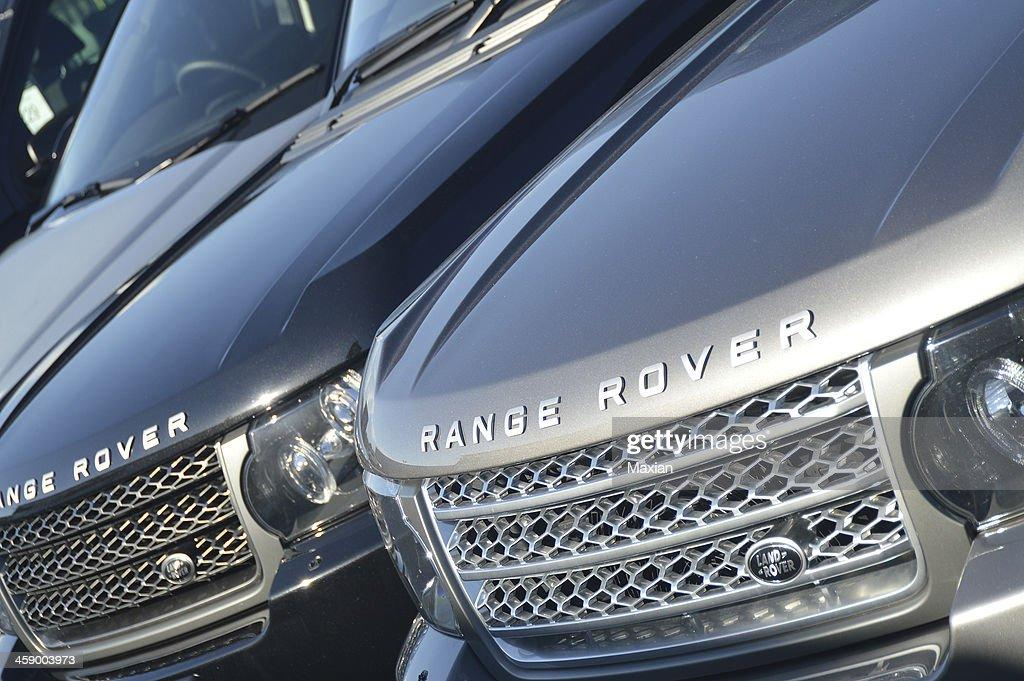range rover: (397, 283, 859, 470), (0, 392, 209, 531)
